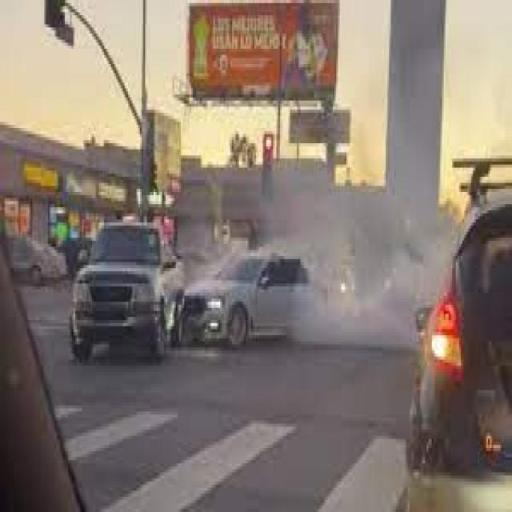小汽车撞小汽车: (70, 221, 334, 363)
